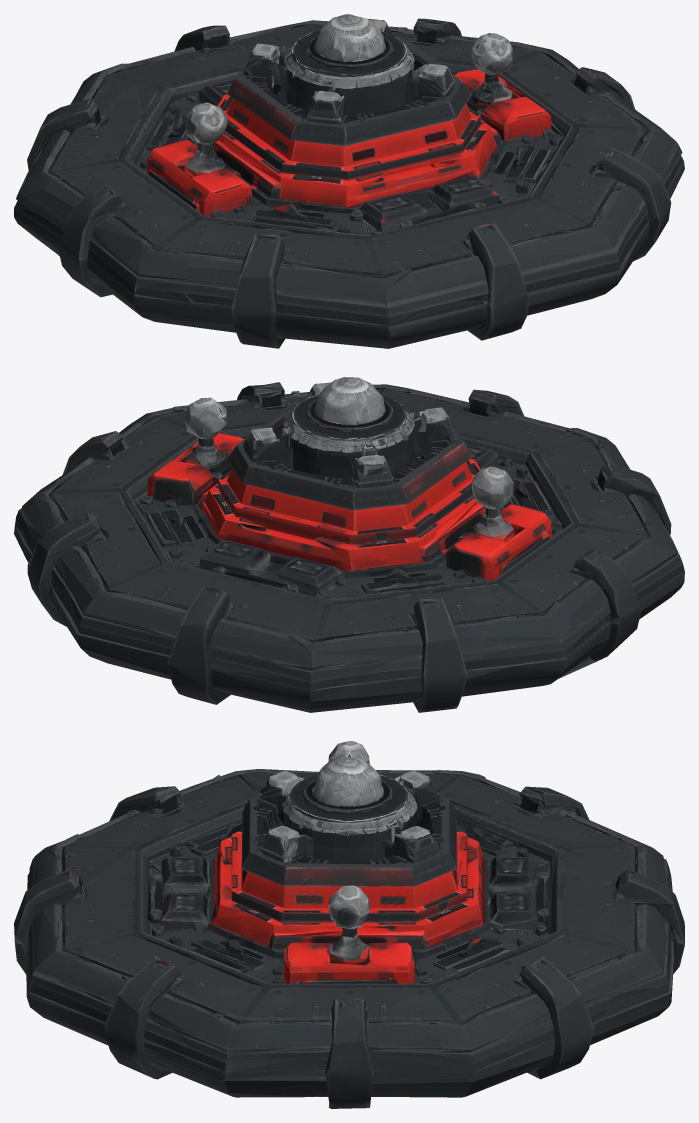
Rendered from sentinel.glb.
3 views of the same model, one above another, from view 1: azimuth 30°, elevation 25°; view 2: azimuth 150°, elevation 25°; view 3: azimuth 270°, elevation 25° (orthographic). The views are drawn at different scales.
Bounding box in the file's own units: 1.9 × 0.6916 × 1.9.
Materials: 1 (1 with a texture image).
